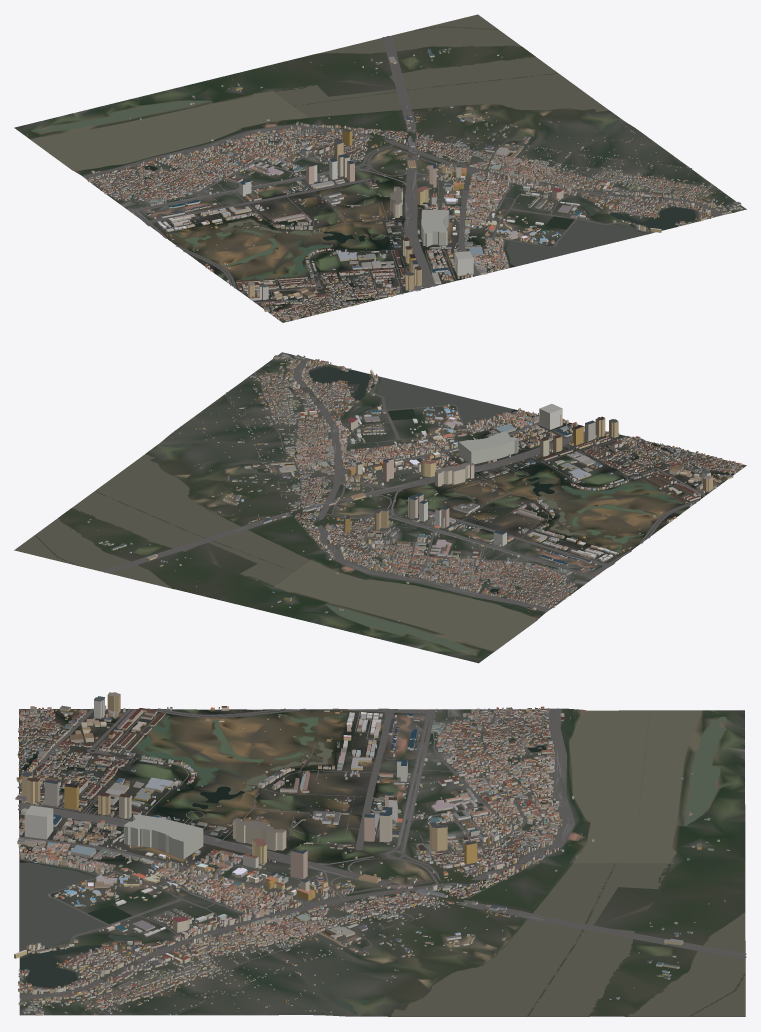
3 renders of one model, top to bottom at view 1: azimuth 30°, elevation 25°; view 2: azimuth 150°, elevation 25°; view 3: azimuth 270°, elevation 25°, orthographic. The views are drawn at different scales.
Visible parts, largest first — view 1: ground, buildings, water, roads; view 2: ground, buildings, water, roads; view 3: ground, buildings, water, roads.
Boxes of the visible parts, x1,y1,x2,y2 form: ground: (14,17,746,322); buildings: (87,47,742,321); water: (30,14,695,280); roads: (78,36,722,322); ground: (14,352,746,663); buildings: (87,353,742,625); water: (14,367,688,655); roads: (102,358,745,616); ground: (19,708,745,1016); buildings: (14,692,729,1015); water: (19,709,745,1016); roads: (17,708,746,1015).
Size of the model in its own units: 2816 by 121 by 2830.
